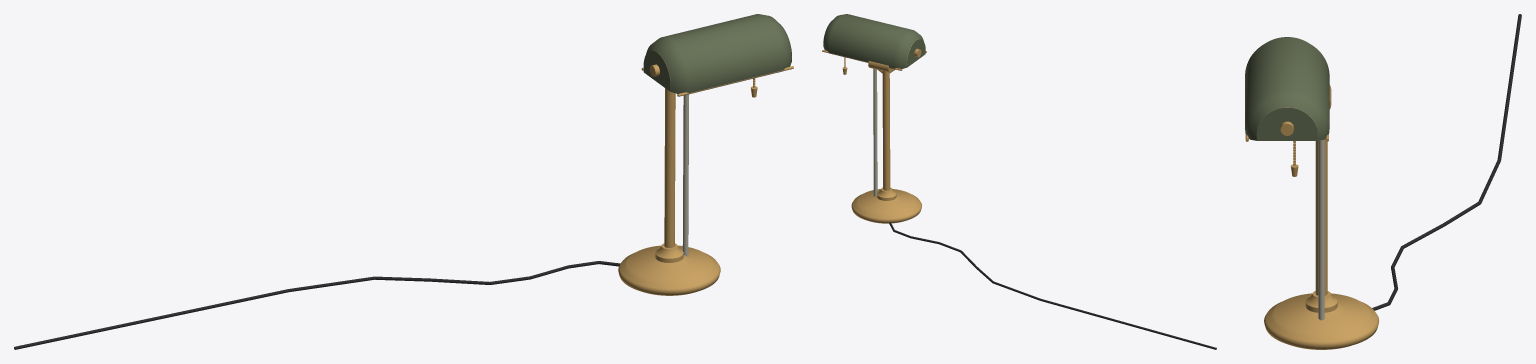
File: Traveller.glb
3 views of the same model, side by side, from view 1: azimuth 30°, elevation 25°; view 2: azimuth 150°, elevation 25°; view 3: azimuth 270°, elevation 25° (orthographic). The views are drawn at different scales.
Parts seen in each view (by area): view 1: Enamel gallery, Weighted base, Post, Power lead, Anglepoise link, Shade end; view 2: Enamel gallery, Weighted base, Post, Anglepoise link, Power lead; view 3: Enamel gallery, Weighted base, Shade end, Anglepoise link, Post, Power lead, Turned stem collar.
Part boxes in pixels (x1,y1,x2,y2): Enamel gallery: (646,14,791,94); Weighted base: (618,245,720,295); Post: (664,88,675,247); Power lead: (14,289,288,349); Anglepoise link: (682,94,689,256); Shade end: (643,50,670,91); Enamel gallery: (823,14,923,68); Weighted base: (851,189,921,223); Post: (882,71,890,190); Anglepoise link: (873,69,877,196); Power lead: (1040,298,1216,349); Enamel gallery: (1245,37,1329,140); Weighted base: (1264,293,1378,349); Shade end: (1256,107,1317,140); Anglepoise link: (1318,139,1324,320); Post: (1315,139,1327,295); Power lead: (1497,14,1521,159); Turned stem collar: (1305,291,1337,312).
Size of the model in its own units: 7.04 by 2.56 by 2.26.
